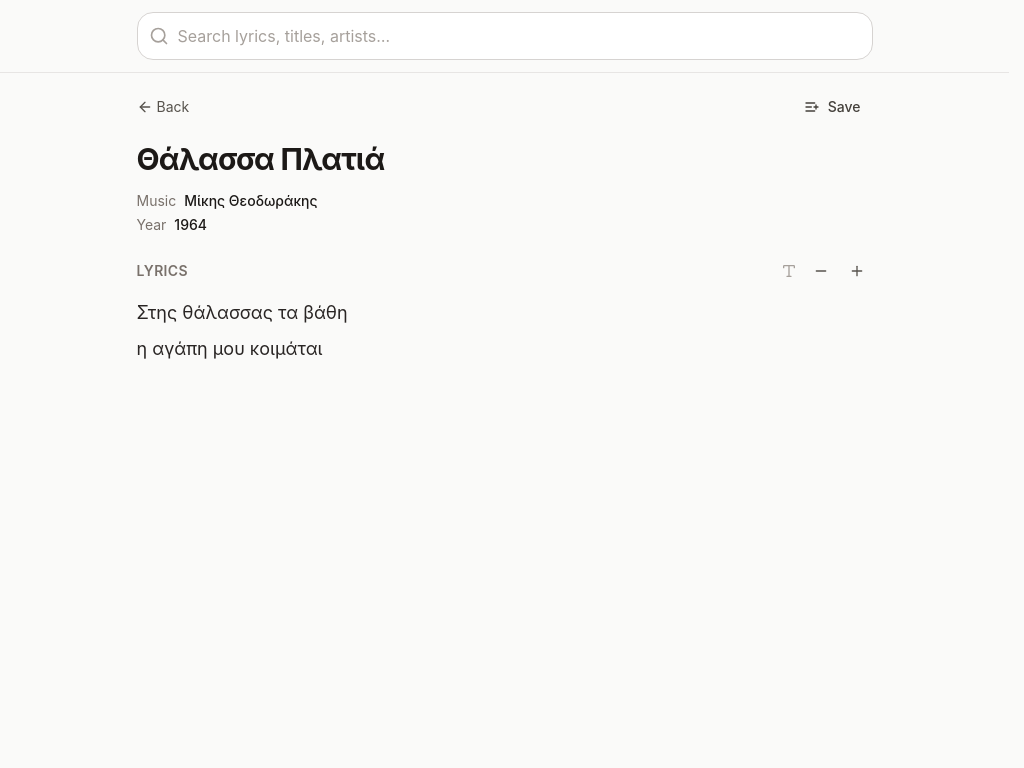
Test case: SongDetailPage › opens the list sheet for a signed-in reader instead
This screenshot has width=1024, height=768.
Click the button with aria-label "save to a list" at (832, 107), box [792,89,872,125]
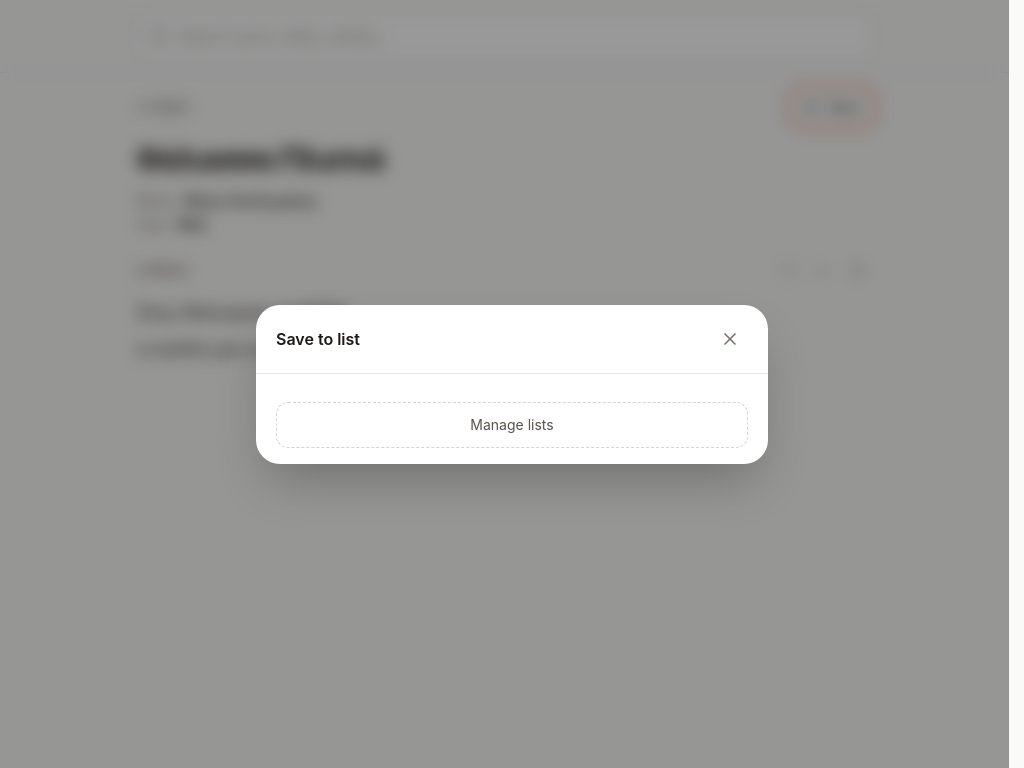
Now the dialog "Save to list Manage lists" is shown, box [256,304,768,464]
